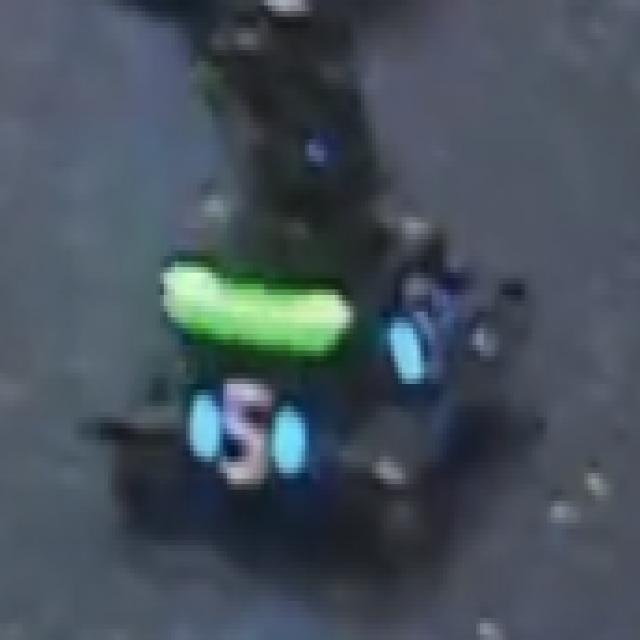B5: (190, 373, 305, 490)
